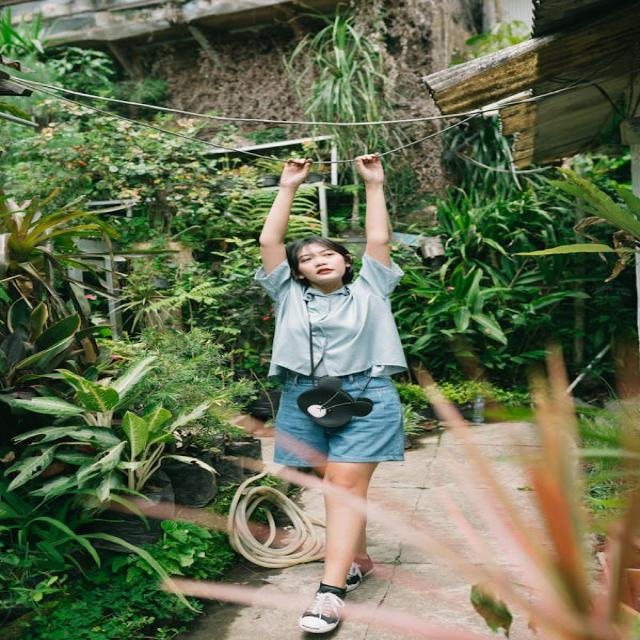Real human 2: (235, 141, 435, 640)
